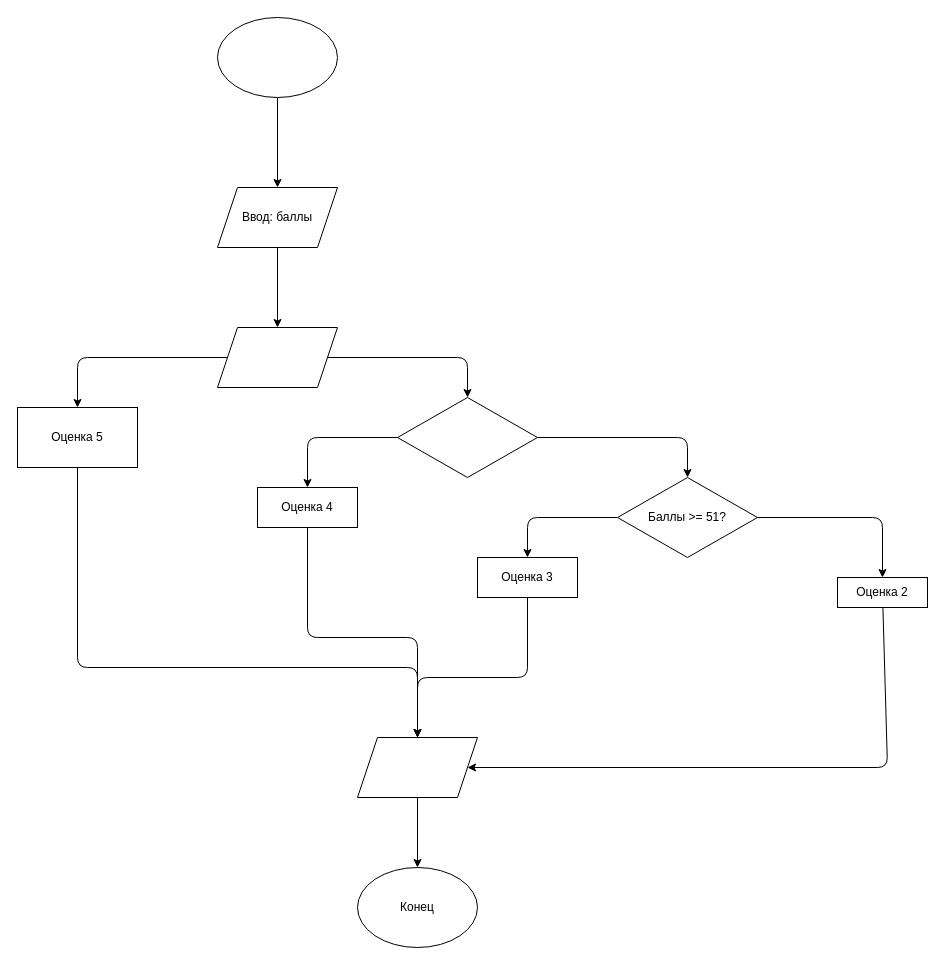
Image size: 945x965. Some labels were removed from this diagram. The box of each missing label's shape, as (x1, y1, x2, y2) in pixels:
Баллы >= 71?: (396, 396, 538, 478)
Баллы >= 91?: (216, 326, 338, 388)
Вывод баллов: (356, 736, 478, 798)
Начало: (216, 16, 338, 98)
